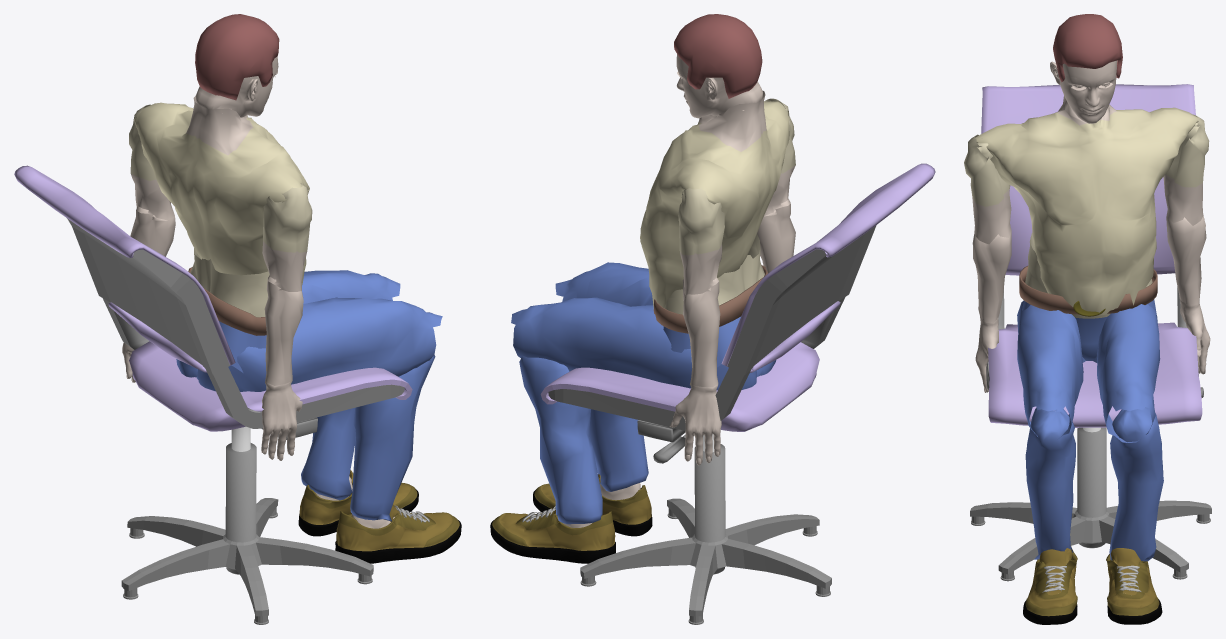
Rendered from desk.dae.
3 renders of one model, left to right at view 1: azimuth 30°, elevation 25°; view 2: azimuth 150°, elevation 25°; view 3: azimuth 270°, elevation 25°, orthographic. The views are drawn at different scales.
Parts seen in each view (by area): view 1: Rolling_Chair, Chest, LoLeg_R, UpLeg_R, Hair, Foot_R, Pelvis, LoArm_R, UpLeg_L, UpArm_R, LoLeg_L, Hand_R (+4 smaller); view 2: Rolling_Chair, Chest, LoLeg_L, UpLeg_L, Hair, Foot_L, Pelvis, LoArm_L, UpLeg_R, LoLeg_R, UpArm_L, Hand_L (+4 smaller); view 3: Chest, Rolling_Chair, UpLeg_L, LoLeg_R, LoLeg_L, UpLeg_R, Pelvis, Foot_R, Foot_L, Hair, LoArm_R, LoArm_L (+5 smaller).
Boxes of the visible parts, x1=… form: Rolling_Chair: x1=14, y1=165, x2=412, y2=624; Chest: x1=134, y1=95, x2=309, y2=284; LoLeg_R: x1=196, y1=297, x2=442, y2=391; UpLeg_R: x1=350, y1=355, x2=435, y2=521; Hair: x1=195, y1=14, x2=279, y2=100; Foot_R: x1=335, y1=504, x2=461, y2=563; Pelvis: x1=188, y1=248, x2=269, y2=372; LoArm_R: x1=262, y1=183, x2=312, y2=291; UpLeg_L: x1=301, y1=408, x2=355, y2=500; UpArm_R: x1=264, y1=275, x2=303, y2=385; LoLeg_L: x1=176, y1=270, x2=400, y2=377; Hand_R: x1=261, y1=380, x2=302, y2=460; Rolling_Chair: x1=540, y1=163, x2=935, y2=624; Chest: x1=640, y1=91, x2=789, y2=308; LoLeg_L: x1=511, y1=297, x2=756, y2=390; UpLeg_L: x1=519, y1=356, x2=602, y2=524; Hair: x1=674, y1=14, x2=762, y2=98; Foot_L: x1=490, y1=506, x2=615, y2=563; Pelvis: x1=653, y1=234, x2=767, y2=367; LoArm_L: x1=678, y1=188, x2=724, y2=295; UpLeg_R: x1=589, y1=409, x2=648, y2=491; LoLeg_R: x1=555, y1=262, x2=776, y2=376; UpArm_L: x1=682, y1=277, x2=720, y2=387; Hand_L: x1=669, y1=383, x2=721, y2=465; Chest: x1=975, y1=95, x2=1198, y2=315; Rolling_Chair: x1=970, y1=84, x2=1211, y2=581; UpLeg_L: x1=1109, y1=407, x2=1163, y2=561; LoLeg_R: x1=1017, y1=300, x2=1085, y2=436; LoLeg_L: x1=1093, y1=304, x2=1160, y2=442; UpLeg_R: x1=1025, y1=408, x2=1075, y2=559; Pelvis: x1=1019, y1=233, x2=1157, y2=360; Foot_R: x1=1023, y1=545, x2=1077, y2=624; Foot_L: x1=1106, y1=548, x2=1162, y2=624; Hair: x1=1053, y1=14, x2=1122, y2=82; LoArm_R: x1=964, y1=134, x2=1011, y2=244; LoArm_L: x1=1163, y1=114, x2=1209, y2=225.
Size of the model in its own units: 1.03 by 0.6279 by 1.46.
